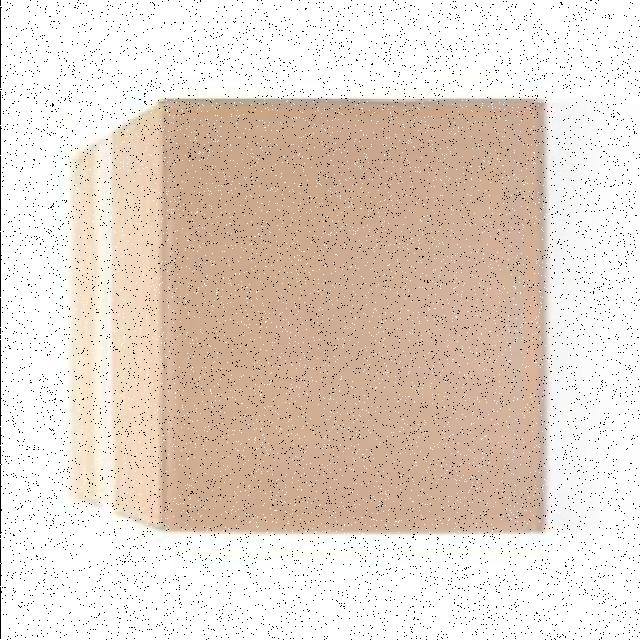normal: (63, 91, 555, 543)
